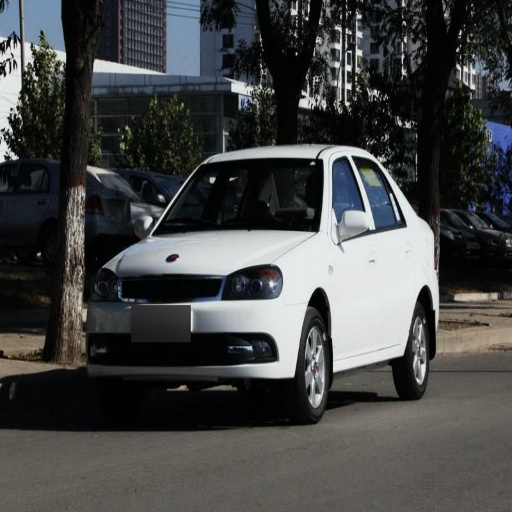front_bumper: (71, 266, 306, 383)
front_glass: (153, 160, 321, 235)
front_left_door: (330, 155, 383, 356)
